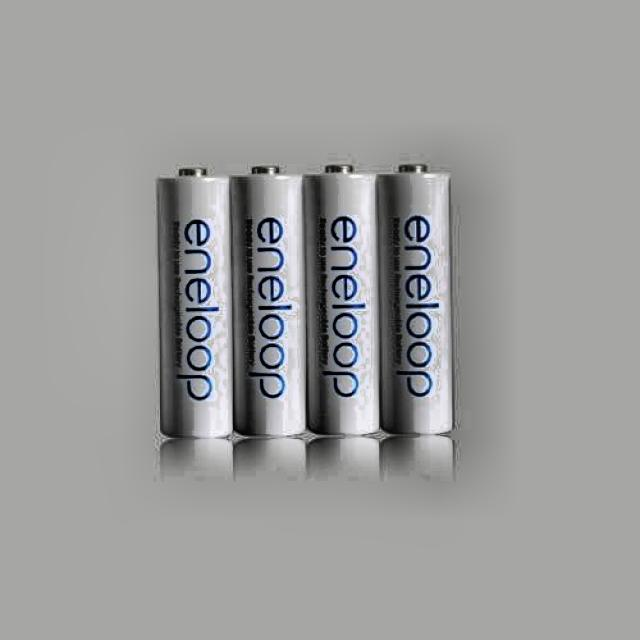Non-Valuable Waste - Batteries: (230, 166, 306, 435), (304, 165, 379, 433), (158, 169, 232, 437), (378, 165, 452, 433)
